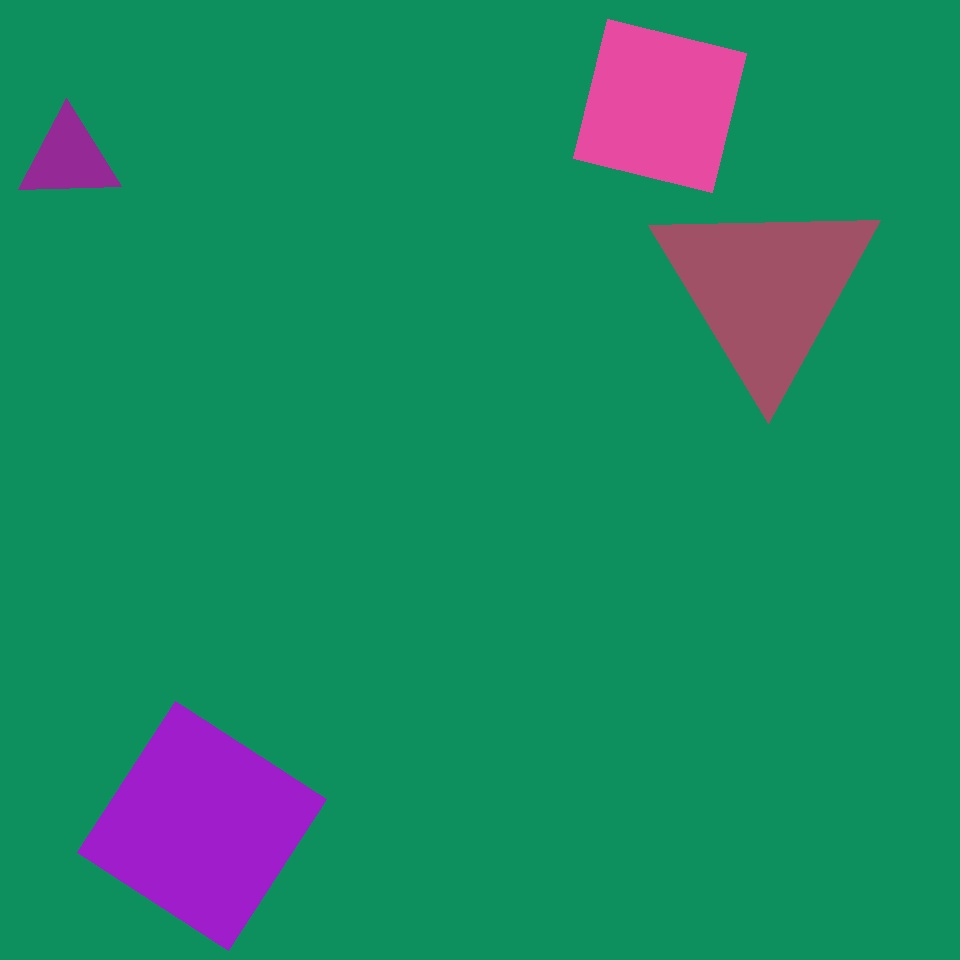circle: (160, 640, 416, 884), (650, 188, 882, 391), (17, 112, 120, 204)
square: (308, 448, 564, 704), (77, 702, 326, 951), (126, 254, 370, 498), (574, 19, 746, 192), (264, 642, 377, 756)
triangle: (638, 527, 944, 832), (260, 228, 404, 372)
